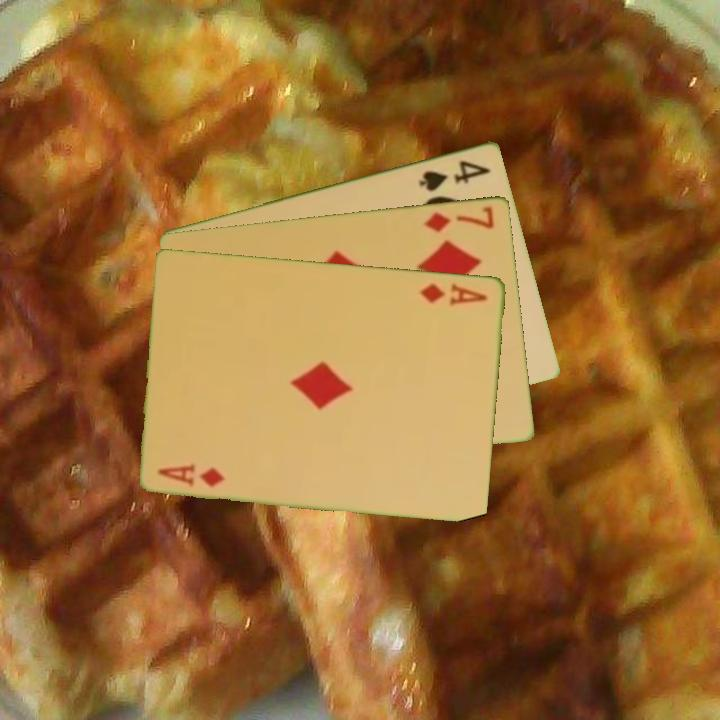4s: (415, 156, 494, 194)
7d: (420, 202, 498, 234)
Ad: (417, 279, 491, 309), (155, 460, 229, 490)
